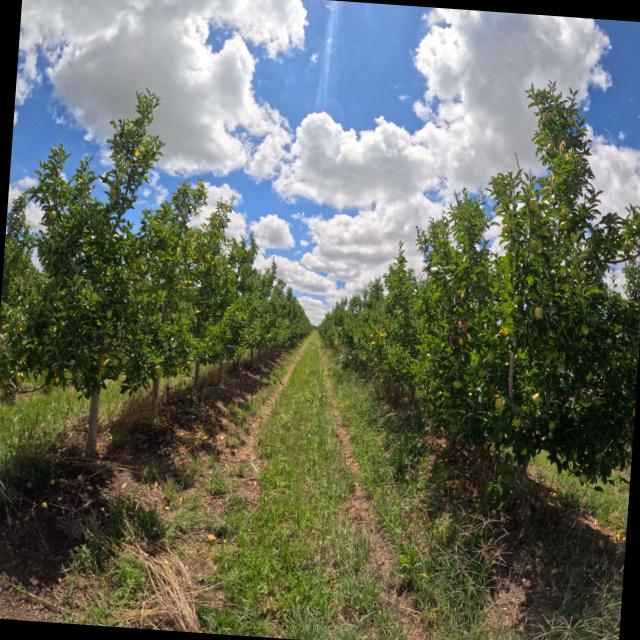-FireBlight-: (448, 320, 471, 348), (451, 317, 457, 325), (452, 305, 458, 311), (466, 311, 471, 318), (458, 318, 461, 327)
